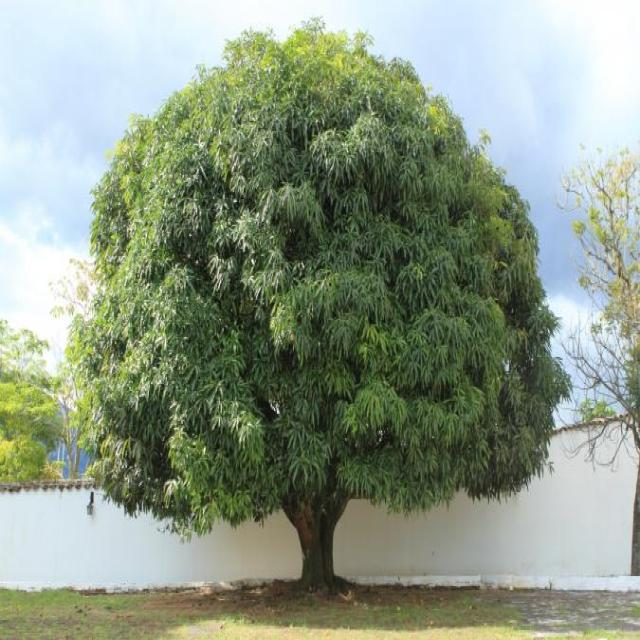Mango-Tree: (69, 30, 548, 546)
